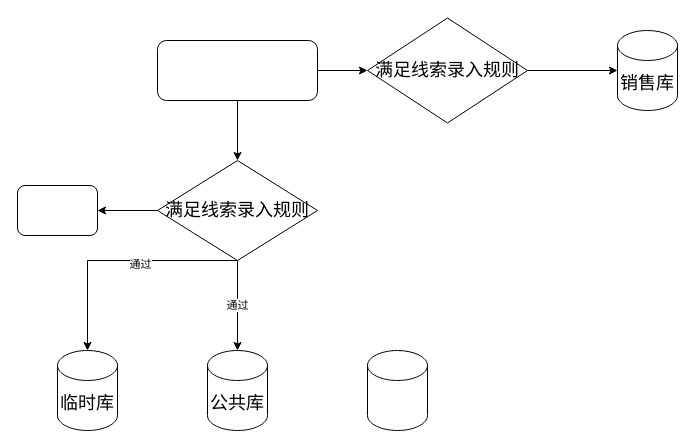
The diagram is 695 pixels wide and 448 high, and some of its shapes have lost their labels. Each missing label, with the centre of its shape:
"废弃库" goes at point 397,390.
"线索录入" goes at point 237,70.
"结束" goes at point 57,210.
